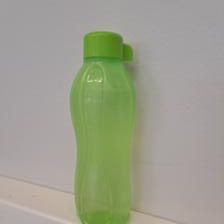bottle: (66, 29, 140, 224)
